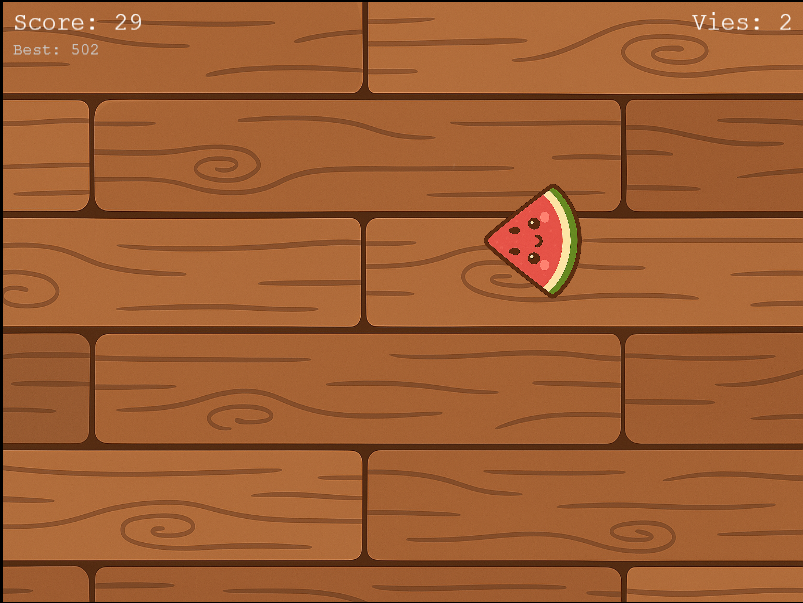fruit: (480, 181, 602, 303)
